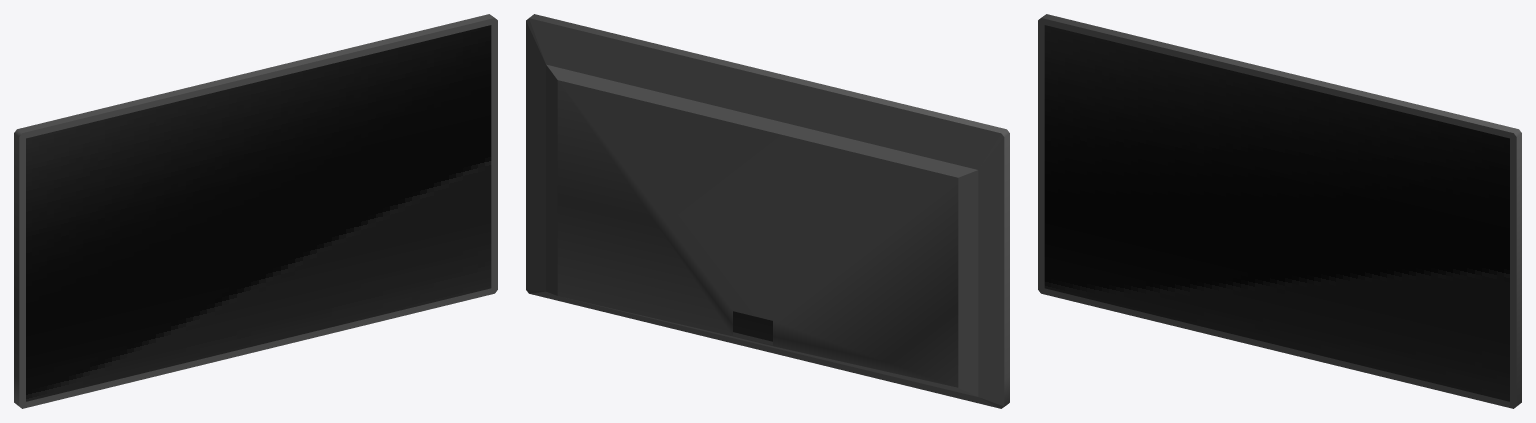
File: TV_Wall.fbx
The picture shows the model from 3 angles, left to right: view 1: azimuth 30°, elevation 25°; view 2: azimuth 150°, elevation 25°; view 3: azimuth 330°, elevation 25°; orthographic projection.
Parts seen in each view (by area): view 1: TV_Wall; view 2: TV_Wall; view 3: TV_Wall.
Boxes of the visible parts, x1,y1,x2,y2 form: TV_Wall: (14, 14, 497, 408); TV_Wall: (526, 14, 1009, 408); TV_Wall: (1038, 14, 1521, 408).
Size of the model in its own units: 145 by 79.88 by 9.29.
